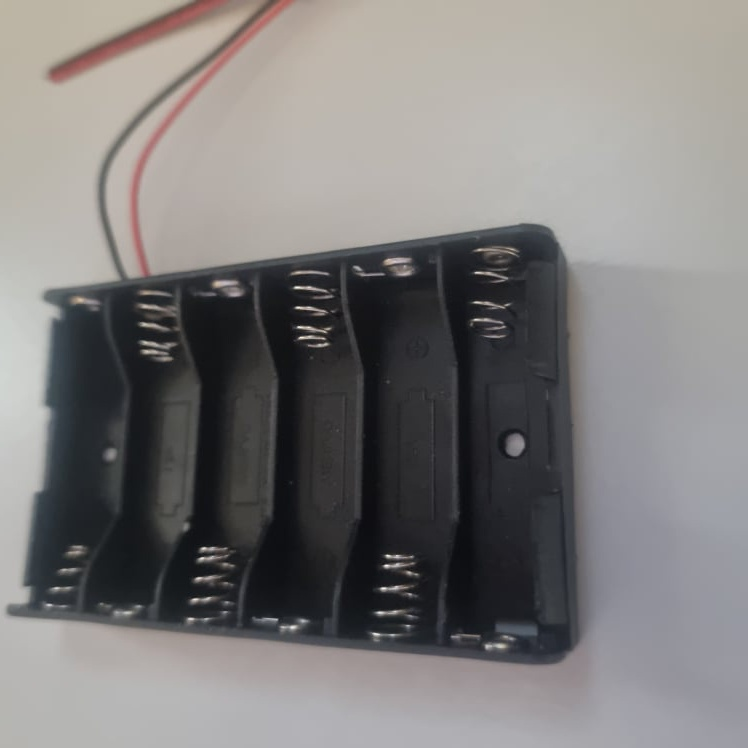BATTERY BOX: (6, 214, 579, 665)
